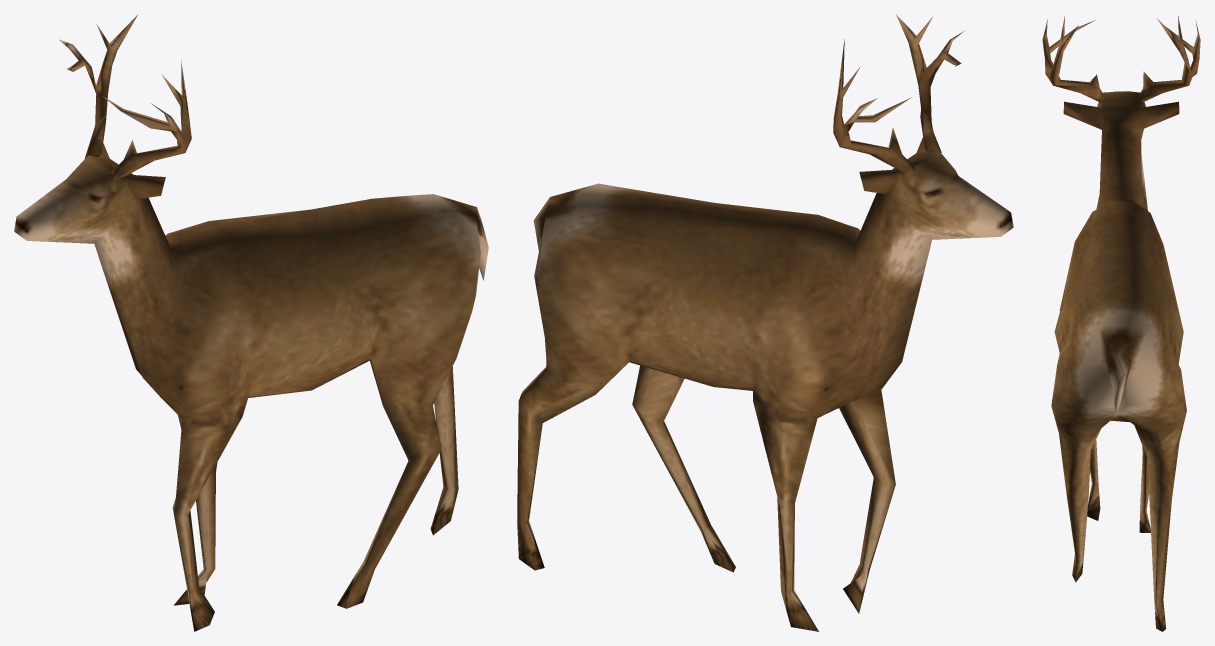
The model's file is static.ico.obj.
3 views of the same model, side by side, from view 1: azimuth 30°, elevation 25°; view 2: azimuth 150°, elevation 25°; view 3: azimuth 270°, elevation 25° (orthographic). The views are drawn at different scales.
Bounding box in the file's own units: 3.28 × 4.03 × 1.17.
Materials: 1 (1 with a texture image).
